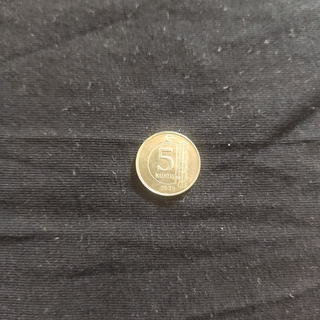5KURUS: (134, 129, 202, 197)
